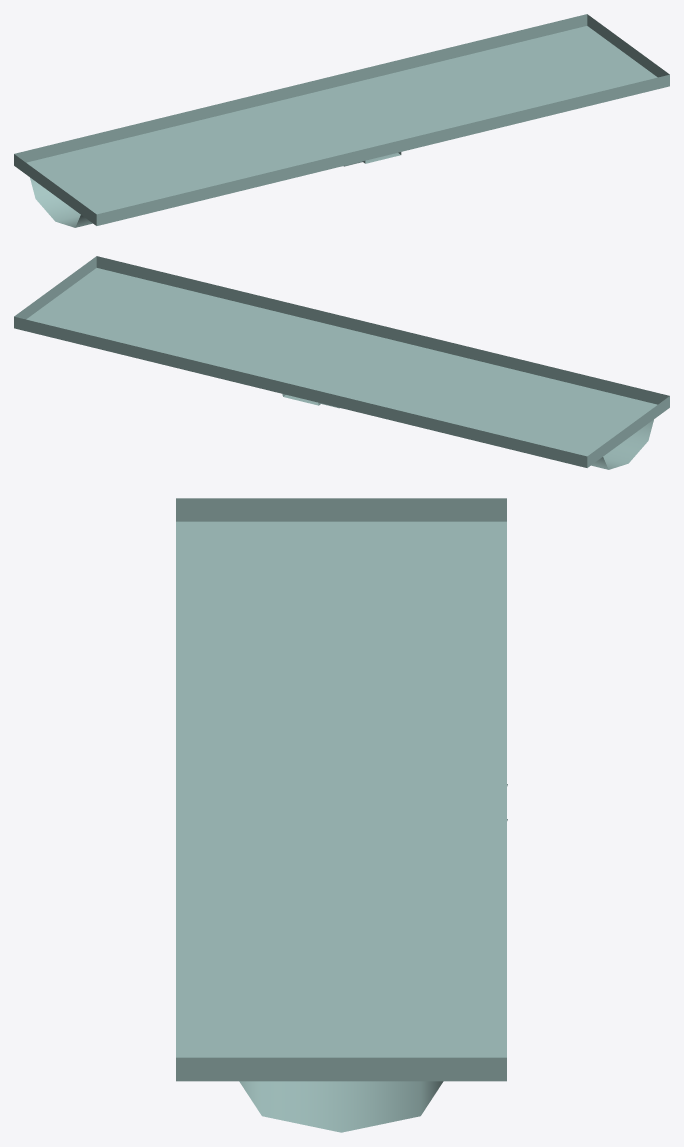
Rendered from BCeilPipeL.fbx.
The picture shows the model from 3 angles, top to bottom: view 1: azimuth 30°, elevation 25°; view 2: azimuth 150°, elevation 25°; view 3: azimuth 270°, elevation 25°; orthographic projection. The views are drawn at different scales.
Visible parts, largest first — view 1: BCeilPipeL; view 2: BCeilPipeL; view 3: BCeilPipeL.
Part boxes in pixels (x1,y1,x2,y2): BCeilPipeL: [14, 14, 669, 227]; BCeilPipeL: [14, 256, 669, 469]; BCeilPipeL: [176, 498, 507, 1132].
Bounding box in the file's own units: 800 × 54.37 × 201.
